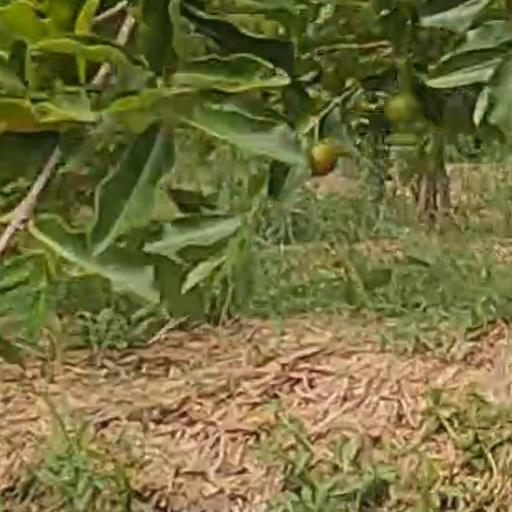acerola: (311, 146, 337, 175)
